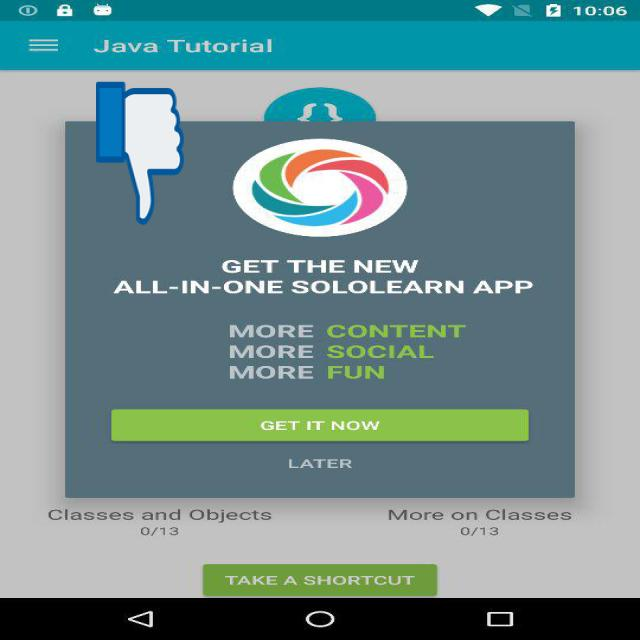obstruction: (96, 79, 184, 228)
